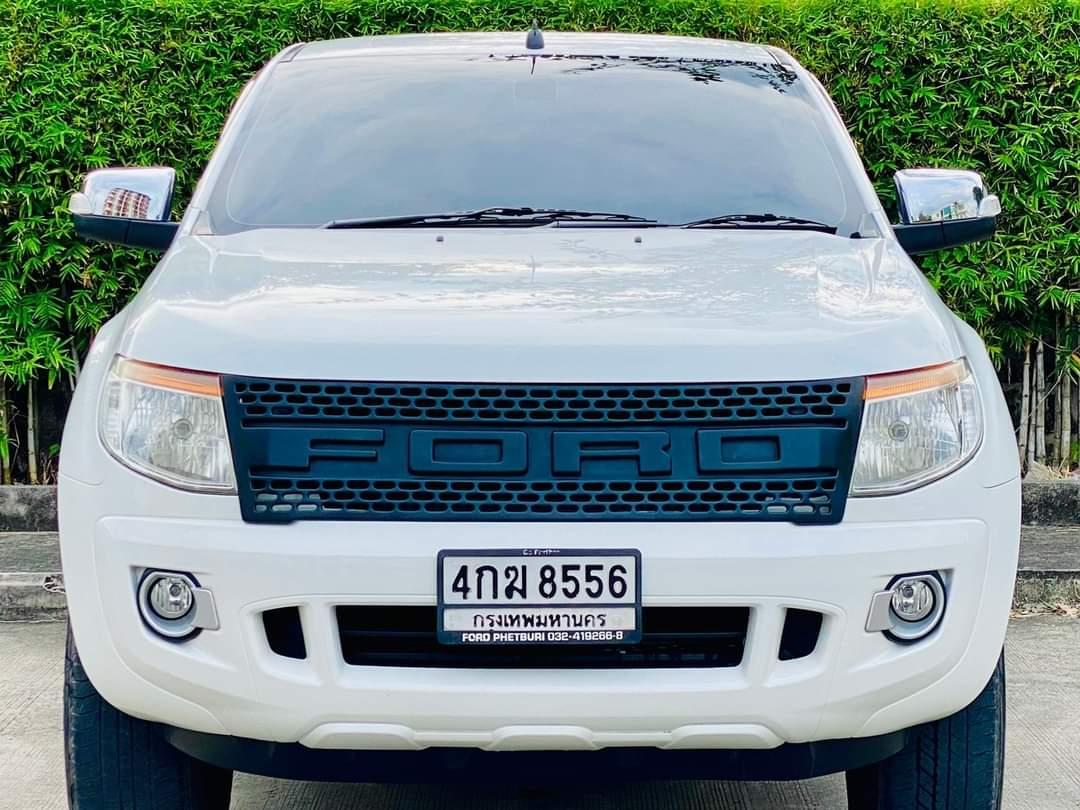license-plate: (435, 546, 642, 649)
